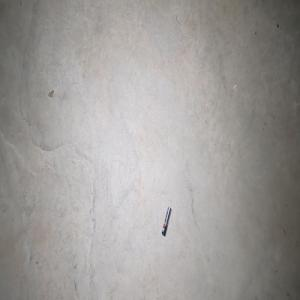Battery: (161, 205, 172, 236)
